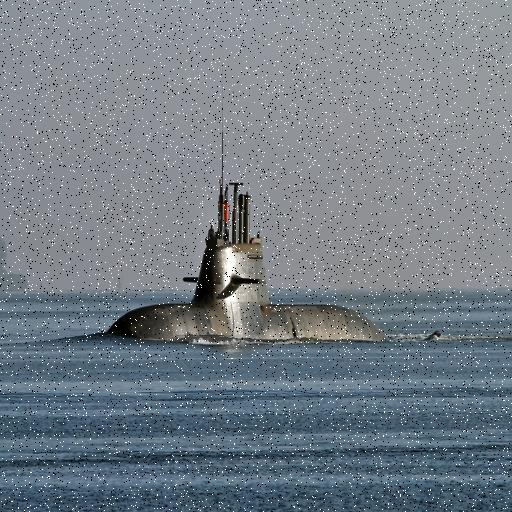submarine: (73, 178, 438, 342)
